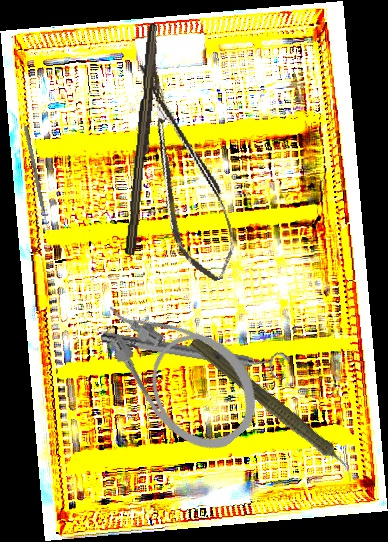Cannula: (84, 265, 277, 468)
Fixation Ring: (98, 320, 292, 384)
Handpiece: (183, 332, 364, 486)
Micro Scissor: (125, 53, 245, 289)
Pusher: (23, 125, 51, 235)
Scalpel Handle: (124, 22, 163, 257)
